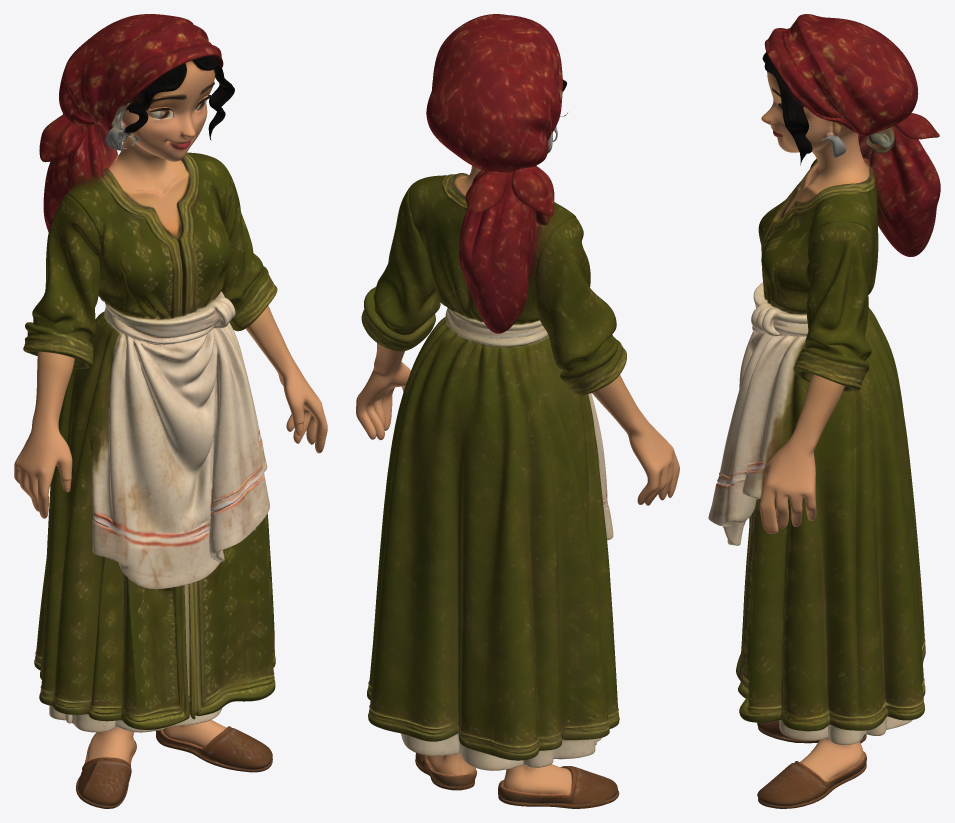
The model's file is fatma__base_basic_pbr.glb.
3 views of the same model, side by side, from view 1: azimuth 30°, elevation 25°; view 2: azimuth 150°, elevation 25°; view 3: azimuth 270°, elevation 25° (orthographic). The views are drawn at different scales.
Visible parts, largest first — view 1: model; view 2: model; view 3: model.
Part boxes in pixels (box(x1,y1,x2,y2)): model: box(14, 14, 327, 808); model: box(356, 14, 679, 808); model: box(708, 14, 940, 808).
Size of the model in its own units: 0.7827 by 1.9 by 0.5389.
1 material, 1 textured.
